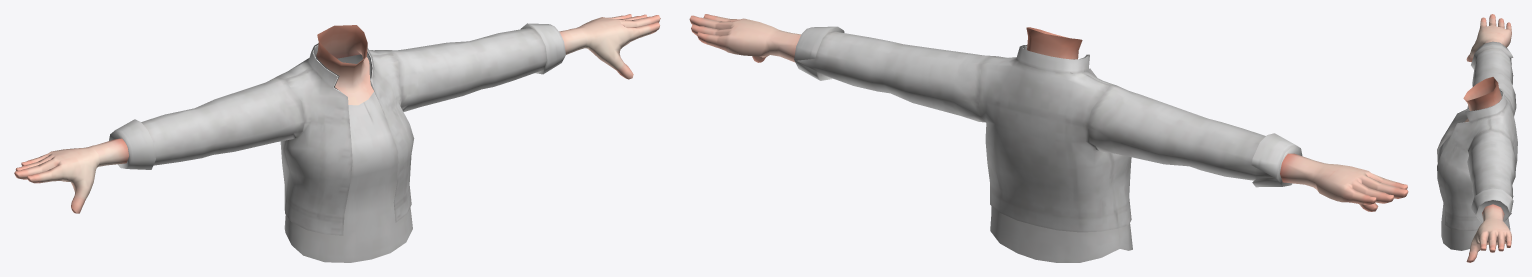
File: tr0850_00_upb00.gltf
3 renders of one model, left to right at view 1: azimuth 30°, elevation 25°; view 2: azimuth 150°, elevation 25°; view 3: azimuth 270°, elevation 25°, orthographic. The views are drawn at different scales.
Visible parts, largest first — view 1: upb00_upperbody_mesh_shape:upperbody00, upb00_upperskin_mesh_shape:upperbody00_skin; view 2: upb00_upperbody_mesh_shape:upperbody00, upb00_upperskin_mesh_shape:upperbody00_skin; view 3: upb00_upperbody_mesh_shape:upperbody00, upb00_upperskin_mesh_shape:upperbody00_skin.
Boxes of the visible parts, bbox=[...] form: upb00_upperbody_mesh_shape:upperbody00: bbox=[109, 23, 565, 262]; upb00_upperskin_mesh_shape:upperbody00_skin: bbox=[14, 14, 660, 213]; upb00_upperbody_mesh_shape:upperbody00: bbox=[794, 26, 1302, 262]; upb00_upperskin_mesh_shape:upperbody00_skin: bbox=[689, 14, 1408, 211]; upb00_upperbody_mesh_shape:upperbody00: bbox=[1437, 41, 1517, 250]; upb00_upperskin_mesh_shape:upperbody00_skin: bbox=[1463, 14, 1511, 262].
Size of what is drawn, in the model's own units: 1.63 by 0.4979 by 0.2377.
2 materials, 2 textured.
